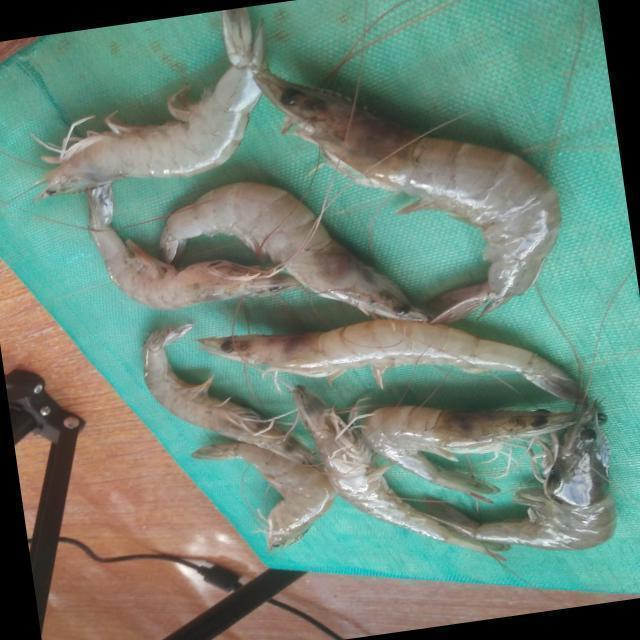shrimp: (257, 69, 562, 323), (35, 7, 264, 198), (160, 181, 432, 321), (293, 386, 508, 559), (198, 319, 585, 403), (85, 183, 300, 310), (434, 403, 617, 551), (142, 324, 316, 465), (362, 406, 578, 501), (192, 442, 336, 552)
